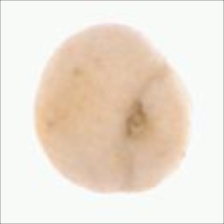L3: (122, 99, 148, 139)
L4: (33, 24, 190, 194)
